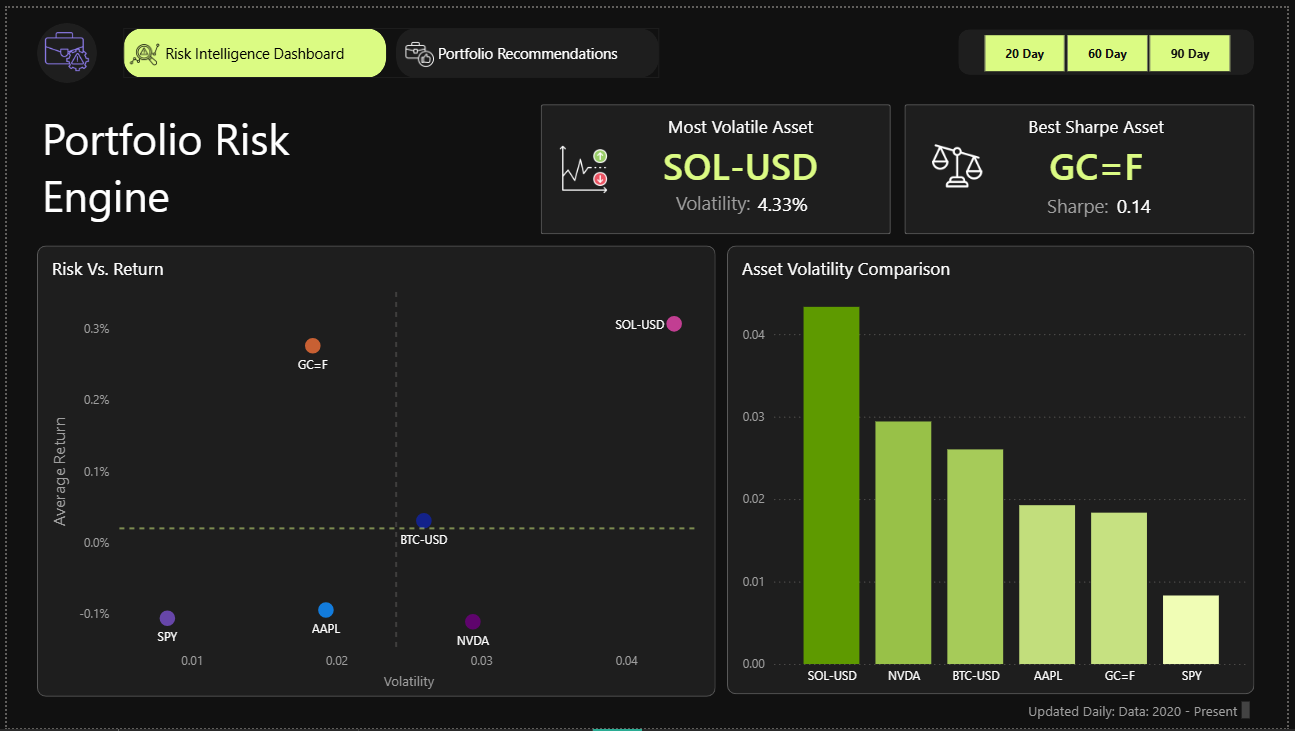

The dashboard page shown, as its layout file describes it:
{"tool":"powerbi","page":{"name":"Risk Intelligence Dashboard","canvas":[1280,720],"ordinal":0},"visuals":[{"type":"shape","box":[897.5,96.2,350,130],"z":0},{"type":"shape","box":[951.4,21.4,295.7,45.7],"z":1000},{"type":"textbox","box":[30,96.2,371.2,130],"z":2000},{"type":"shape","box":[720,237.5,527.5,448.8],"z":3000},{"type":"textbox","box":[1015.7,688.6,231.4,31.4],"z":4000},{"type":"shape","box":[30,237.5,678.8,451.2],"z":5000},{"type":"shape","box":[533.8,96.2,350,130],"z":6000},{"type":"shape","box":[30,15.6,60,60],"z":7000},{"type":"image","box":[38,21,45,45],"z":8000},{"type":"slicer","fields":{"Values":["Window Selection.Window"]},"box":[951.2,20.6,296.2,50],"z":9000},{"type":"clusteredColumnChart","title":"Asset Volatility Comparison","fields":{"Category":["price_action.ticker"],"Y":["_Measures.Selected Volatility"]},"box":[730,248.8,517.5,437.5],"z":10000},{"type":"card","title":"Most Volatile Asset","fields":{"Values":["_Measures.Most Volatile Asset"]},"box":[646.2,106.2,175,80],"z":11000},{"type":"card","title":"Best Sharpe Asset","fields":{"Values":["_Measures.Best Sharpe Asset"]},"box":[1007.5,106.2,163.8,80],"z":12000},{"type":"card","title":"Volatility","fields":{"Values":["_Measures.Most Volatile Asset Value"]},"box":[729.9,182.3,91.4,31.4],"z":13000},{"type":"textbox","box":[664,178,91.4,38.6],"z":14000},{"type":"card","title":"Volatility","fields":{"Values":["_Measures.Best Sharpe Asset Value"]},"box":[1091.7,184.3,71.4,31.4],"z":15000},{"type":"textbox","box":[1035,180,77.1,38.6],"z":16000},{"type":"scatterChart","title":"Risk Vs. Return","fields":{"X":["_Measures.Selected Volatility"],"Y":["_Measures.Selected Avg Return"],"Category":["price_action.ticker"],"Series":["price_action.ticker"]},"box":[40,248.8,668.8,437.5],"z":17000},{"type":"image","box":[551.2,136.2,50,50],"z":18000},{"type":"image","box":[925,136.2,50,50],"z":19000},{"type":"pageNavigator","box":[116,20,536.2,50],"z":21001},{"type":"image","box":[397.5,31,30,30],"z":26000},{"type":"image","box":[122,31,30,30],"z":26500}]}

Visuals, with their boxes in screenshot pixels (x1, y1, x2, y2), scaled from the page's 1280x720 canvas onto the 1295x731 screenshot:
shape: [908,98,1262,230]
shape: [963,22,1262,68]
textbox: [30,98,406,230]
shape: [728,241,1262,697]
textbox: [1028,699,1262,730]
shape: [30,241,717,699]
shape: [540,98,894,230]
shape: [30,16,91,77]
image: [38,21,84,67]
slicer - Window Selection.Window: [962,21,1262,72]
"Asset Volatility Comparison" clusteredColumnChart: [739,253,1262,697]
"Most Volatile Asset" card: [654,108,831,189]
"Best Sharpe Asset" card: [1019,108,1185,189]
"Volatility" card: [738,185,831,217]
textbox: [672,181,764,220]
"Volatility" card: [1104,187,1177,219]
textbox: [1047,183,1125,222]
"Risk Vs. Return" scatterChart: [40,253,717,697]
image: [558,138,608,189]
image: [936,138,986,189]
pageNavigator: [117,20,660,71]
image: [402,31,433,62]
image: [123,31,154,62]
